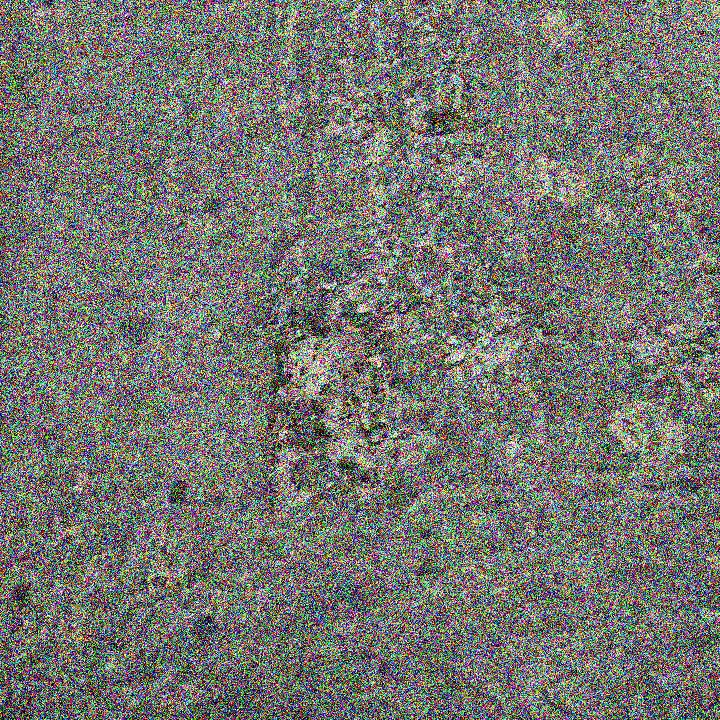pothole: (260, 309, 414, 504), (424, 107, 485, 142)
